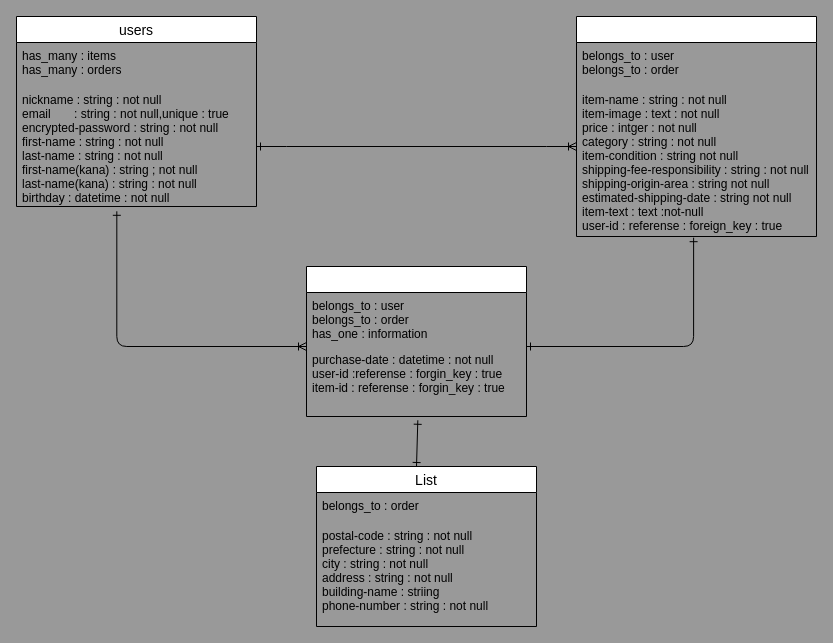
Some shapes in this 833 by 643 pixel diagram are drawn without their labels. Here are the shapes that lost their labels. From the top down, the box of each, then its label:
(576, 16, 816, 236): items
(306, 266, 526, 416): orders
